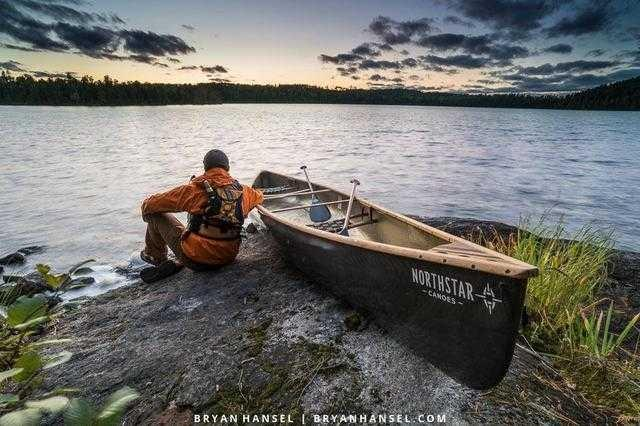kayak: (252, 163, 540, 391), (180, 221, 241, 269)
